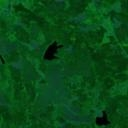alloviz: (42, 40, 64, 60), (94, 109, 111, 126)
